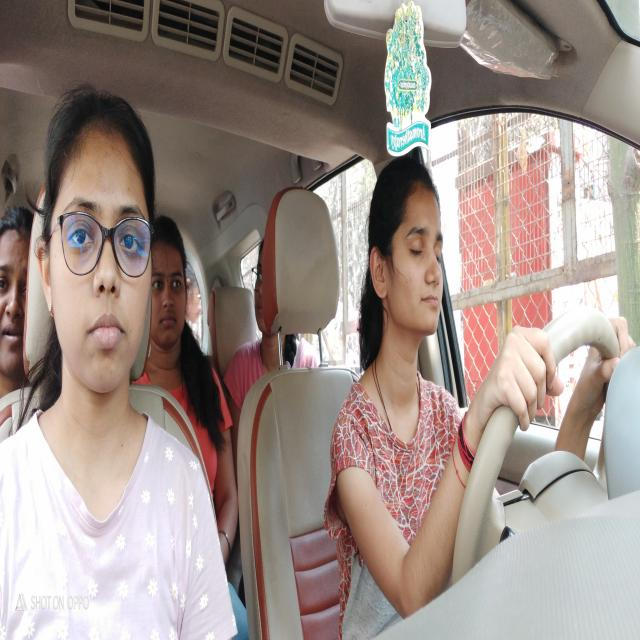drowsy: (369, 143, 450, 378)
person: (40, 94, 155, 430), (0, 200, 38, 404), (152, 212, 188, 360), (252, 231, 272, 353)
